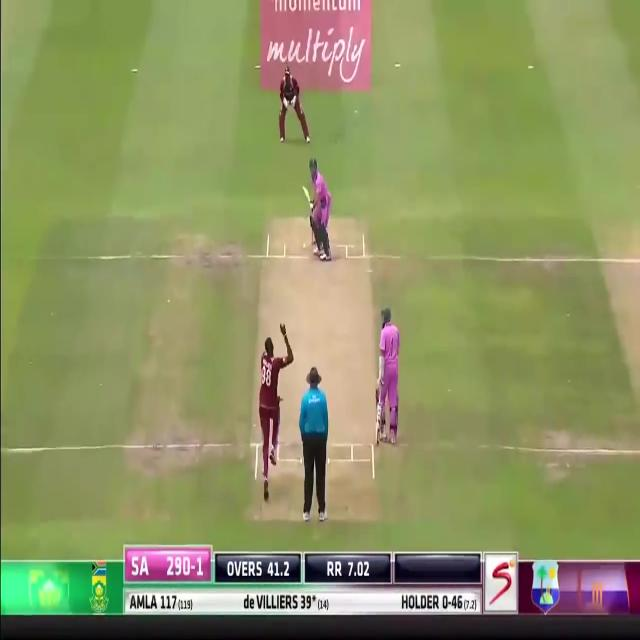Ball: (376, 306, 403, 444), (306, 156, 333, 260)
Fielder: (256, 326, 291, 529), (278, 69, 308, 143)
Umpire: (299, 367, 330, 524)
